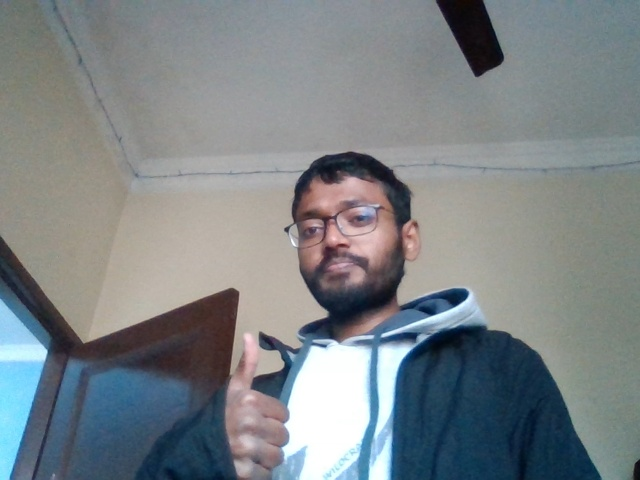good: (192, 327, 301, 476)
